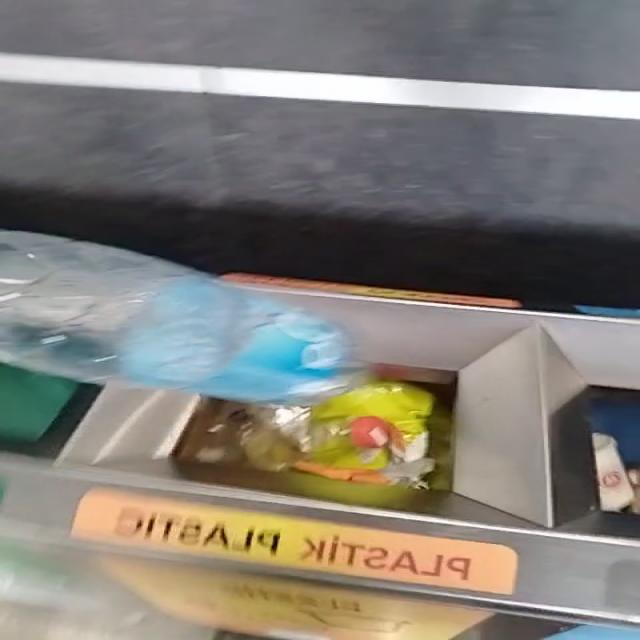plastic: (0, 231, 361, 404)
